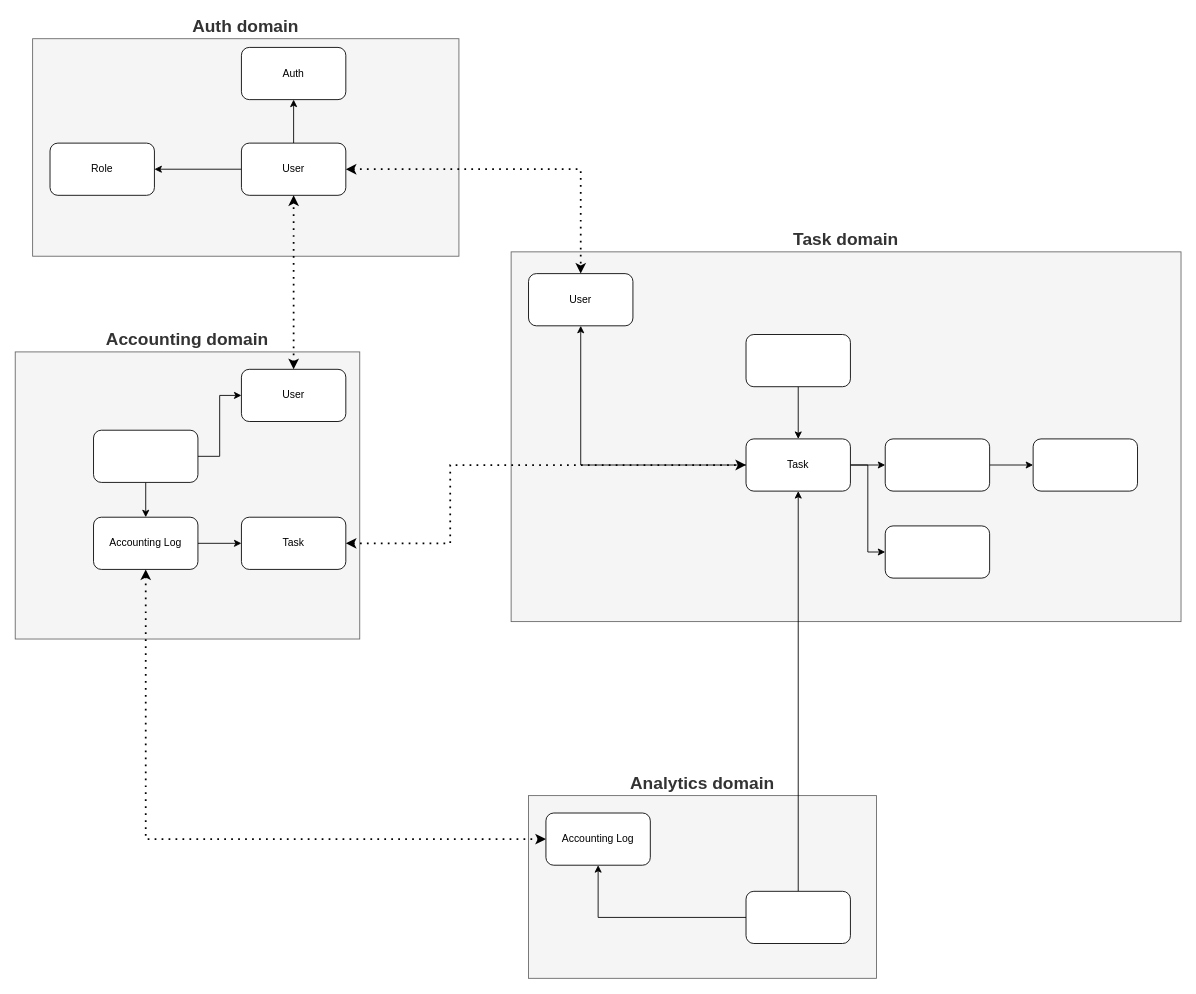
This 1196x994 diagram has some shape labels left out. Here are the shapes that lost their labels. From the top down, the centre of each, then its label:
the point at 797,360: Board
the point at 145,455: Balance
the point at 937,464: Status
the point at 1085,464: Log
the point at 937,551: Task price
the point at 797,917: Analytics
